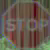Stop: (1, 4, 49, 45)
